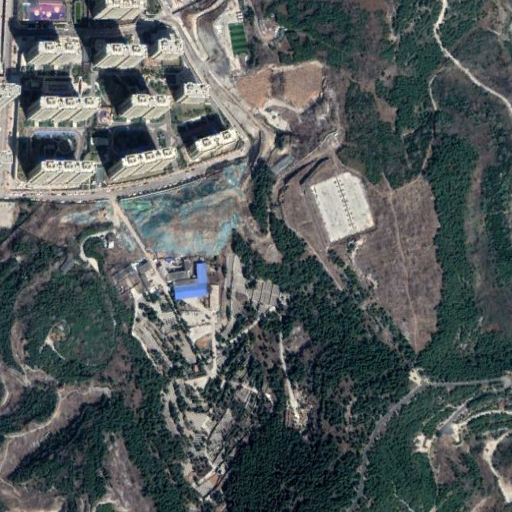cw: (64, 158, 278, 264)
